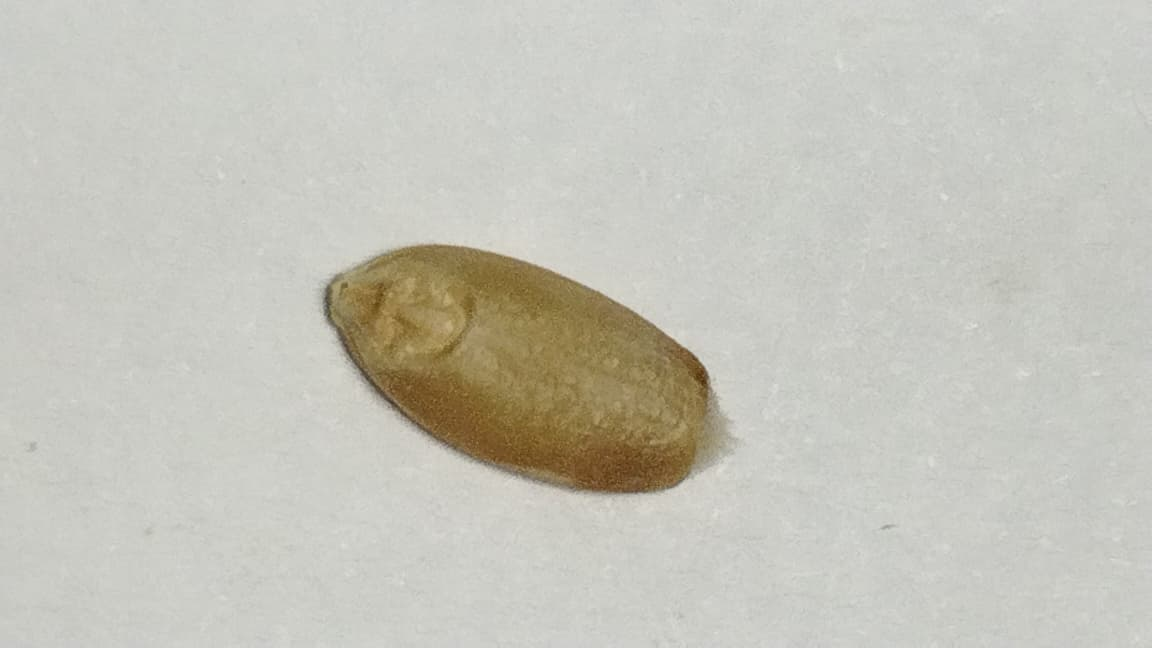healthy: (329, 245, 706, 489)
